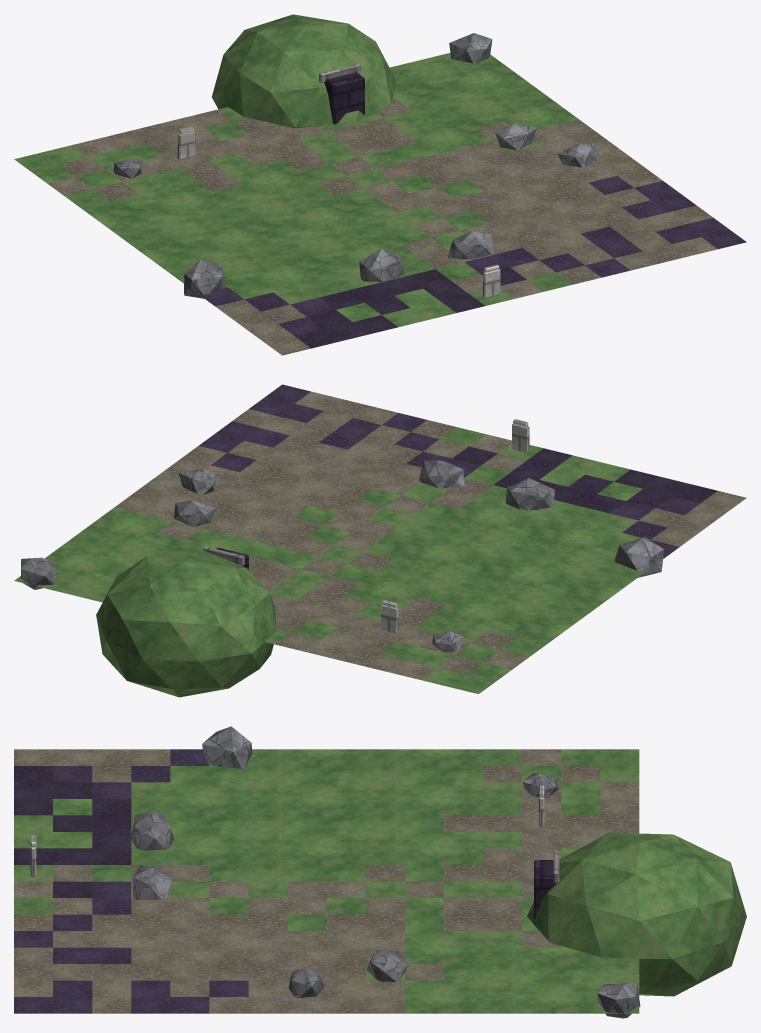
Rendered from chunk_1_22.glb.
3 views of the same model, one above another, from view 1: azimuth 30°, elevation 25°; view 2: azimuth 150°, elevation 25°; view 3: azimuth 270°, elevation 25° (orthographic). The views are drawn at different scales.
Parts seen in each view (by area): view 1: chunk_1_22; view 2: chunk_1_22; view 3: chunk_1_22.
Part boxes in pixels (bbox=[...]): chunk_1_22: bbox=[14, 14, 746, 355]; chunk_1_22: bbox=[14, 384, 746, 697]; chunk_1_22: bbox=[14, 726, 746, 1018].
Size of the model in its own units: 16.34 by 4.21 by 18.75.
9 materials, 9 textured.
